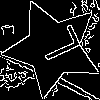L: (28, 23, 83, 68)
